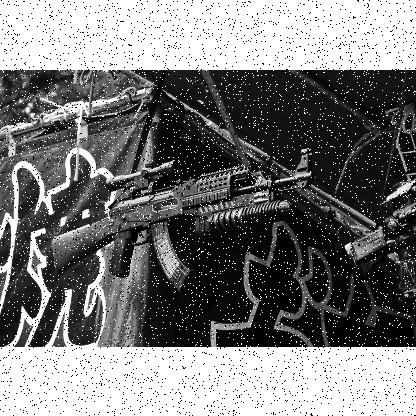gun: (52, 148, 314, 290)
